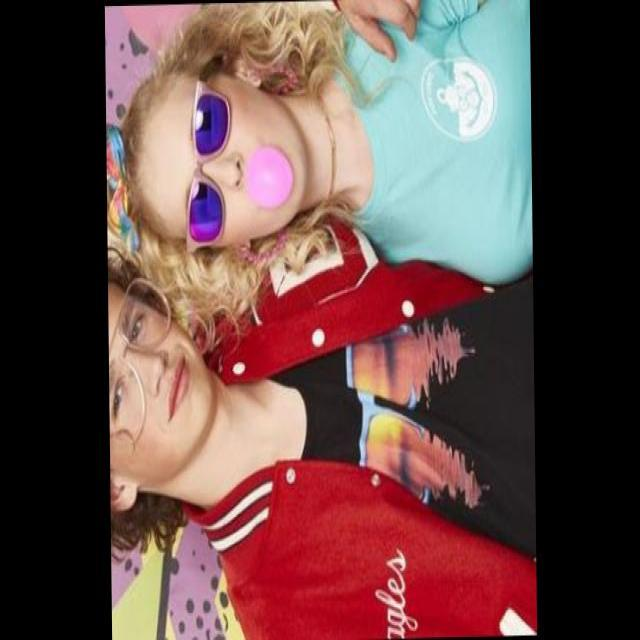glasses: (106, 275, 170, 446), (182, 65, 232, 253)
